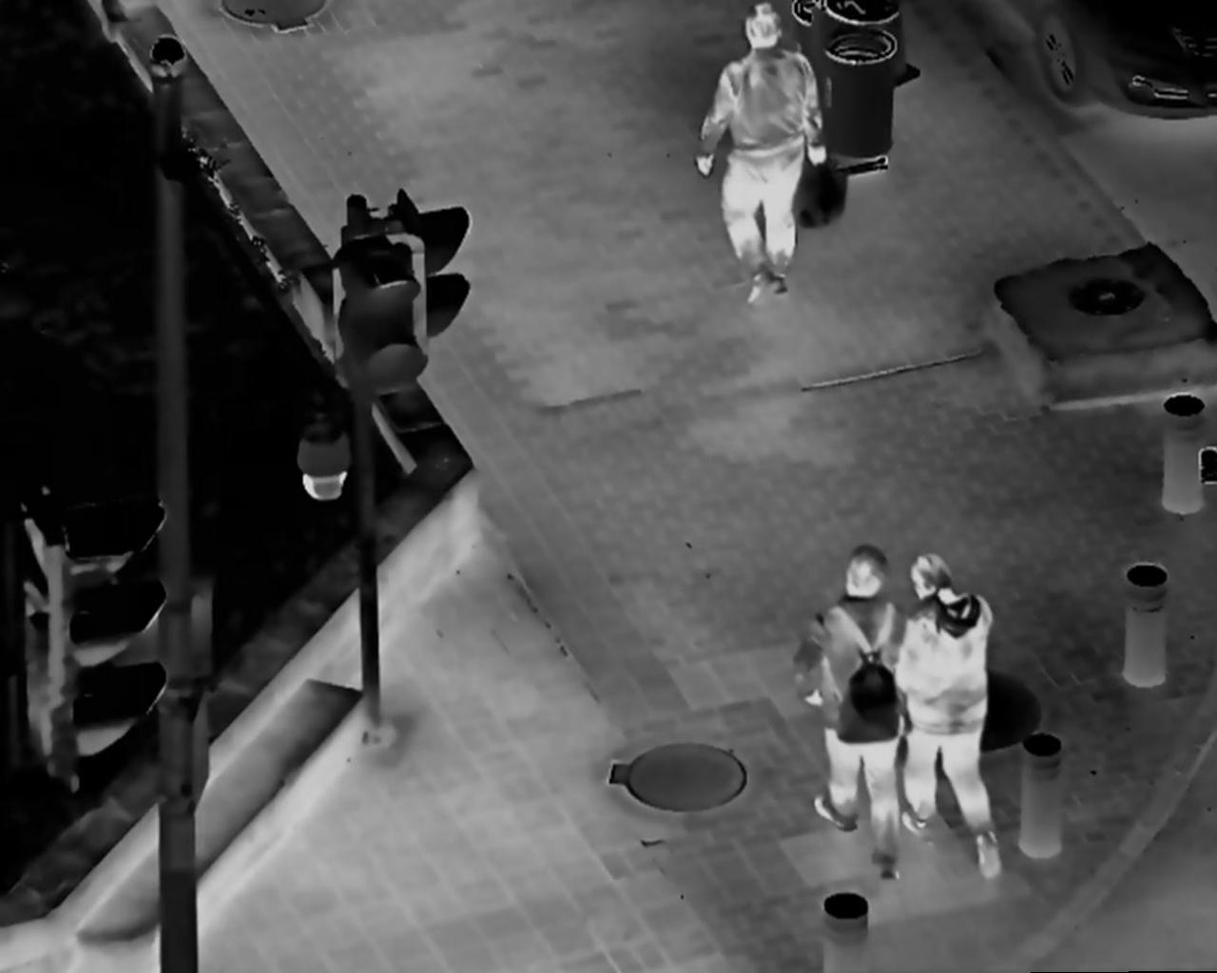person: (783, 535, 917, 883), (899, 554, 1017, 887)
